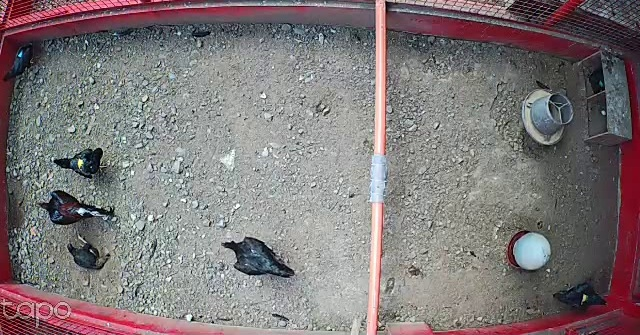Chicken: (217, 230, 300, 282), (62, 232, 115, 271), (52, 145, 106, 183), (553, 277, 607, 311)
Rooster: (35, 191, 119, 228)
Saddle_Color_Yellow: (78, 158, 84, 168)
Saddle_Color_YellowGreen: (582, 295, 590, 302)
